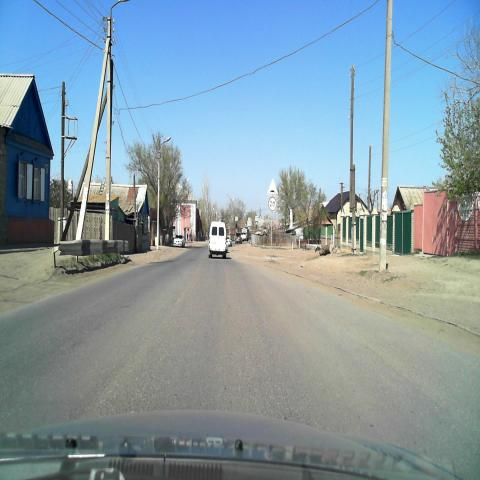1_17: (267, 178, 278, 194)
